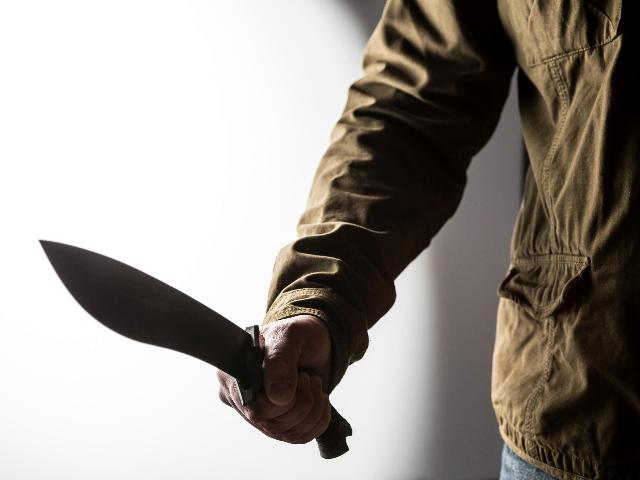long knife: (28, 230, 406, 466)
